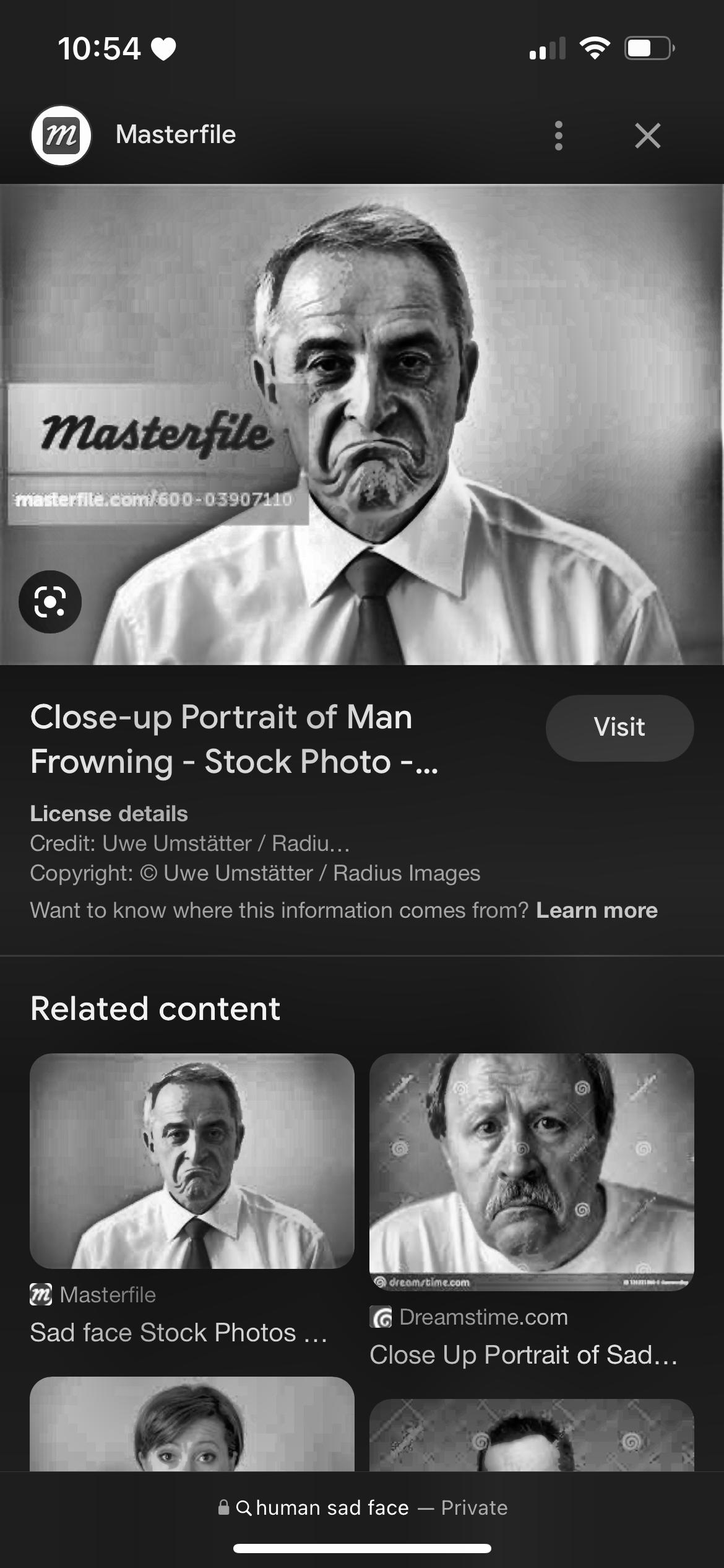sad: (267, 257, 479, 516)
